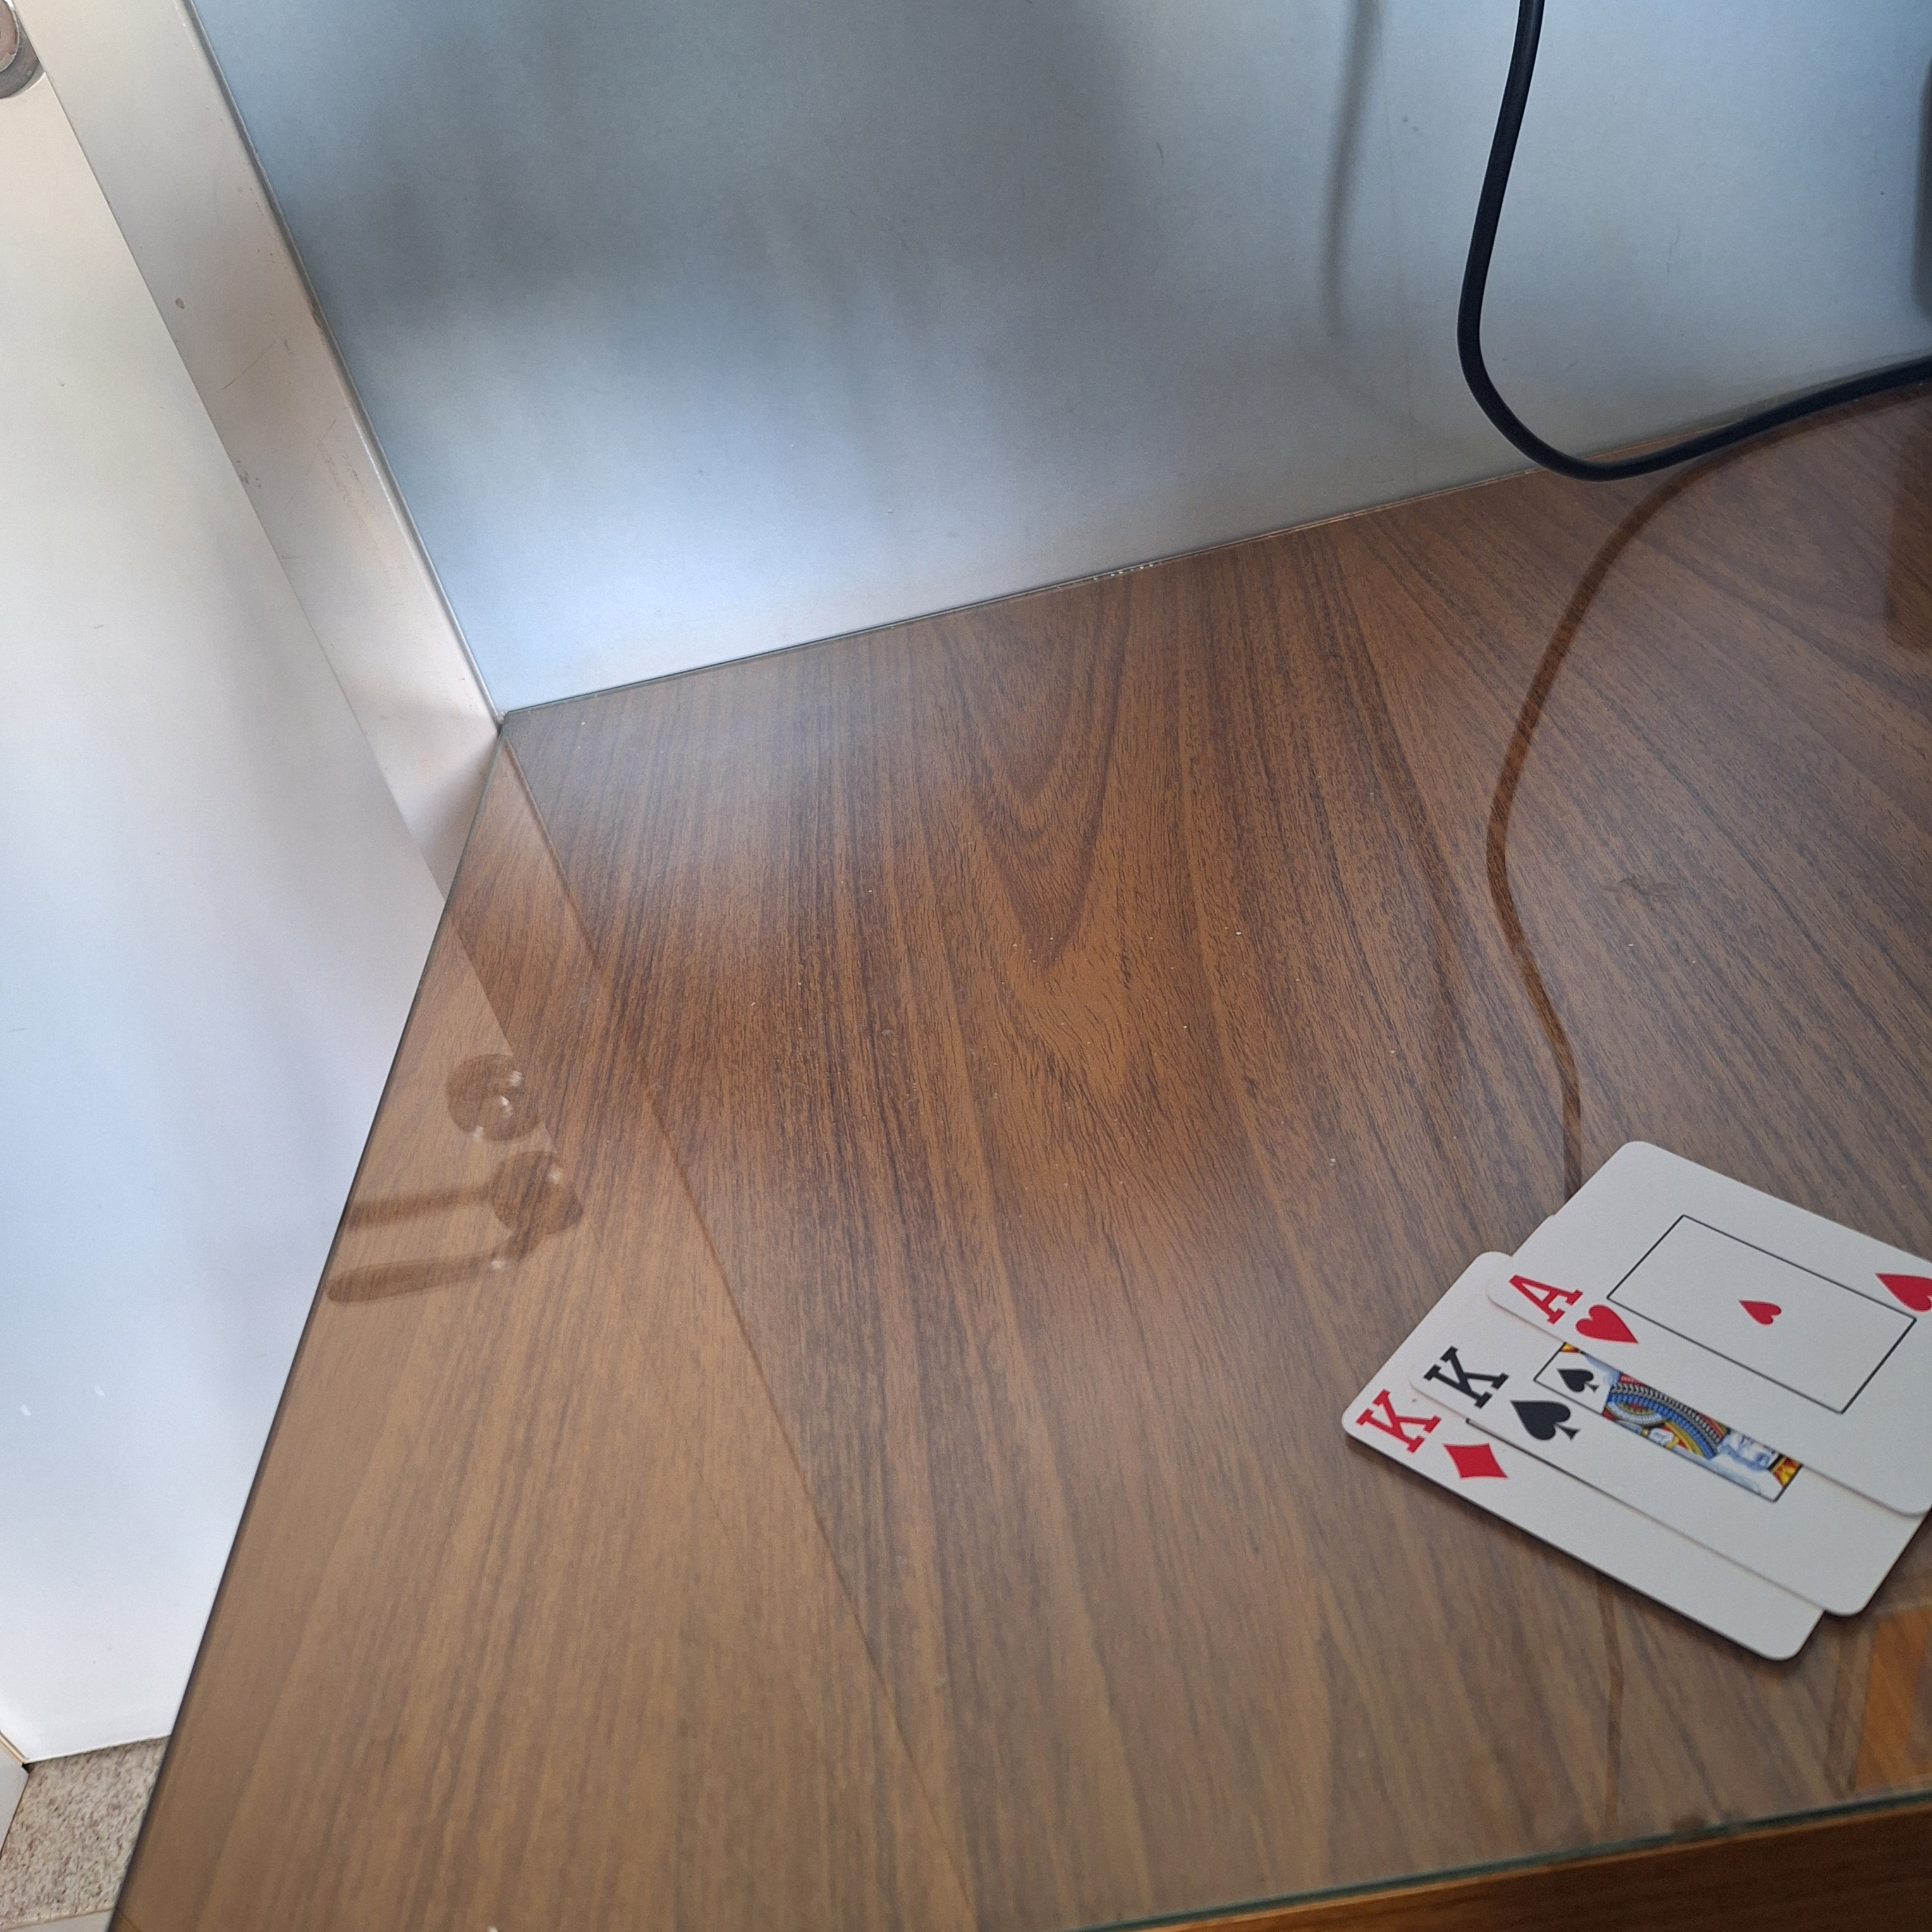AC: (1504, 1263, 1652, 1348)
KE: (1422, 1343, 1582, 1442)
KO: (1346, 1387, 1511, 1488)
